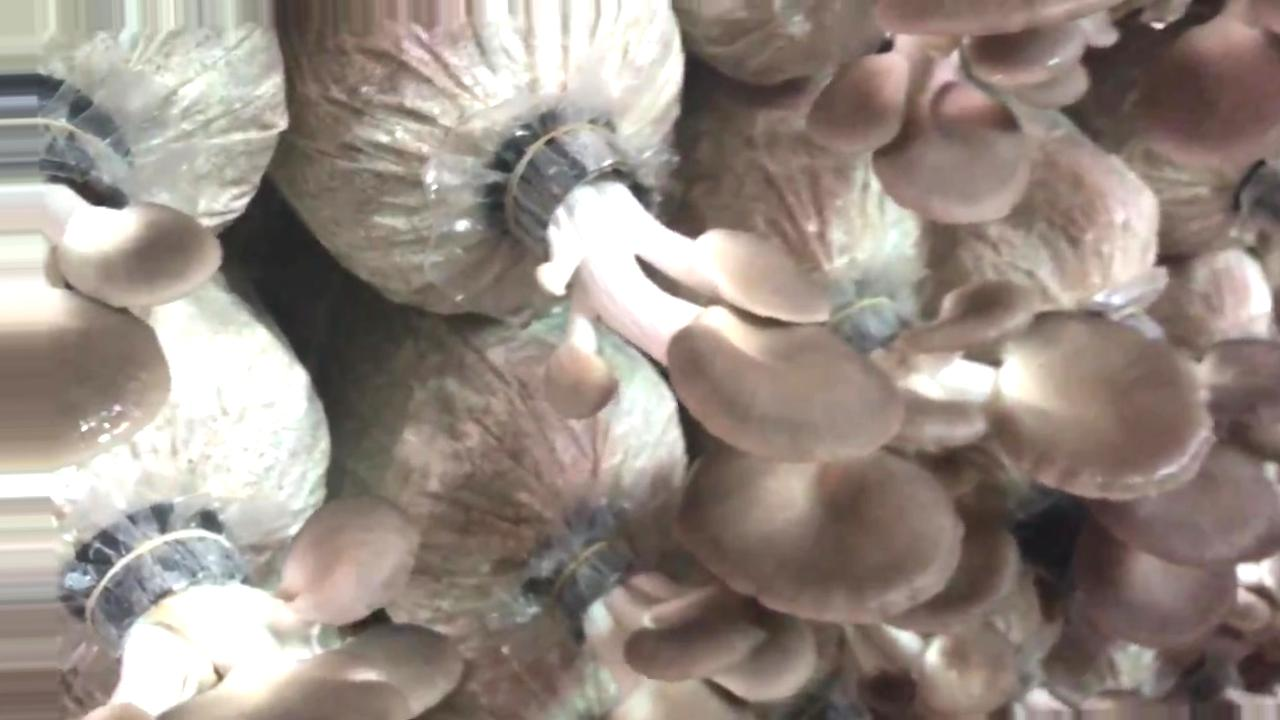nam: (673, 277, 1213, 625), (498, 121, 903, 466), (1, 71, 231, 467), (80, 498, 468, 720), (813, 1, 1116, 227), (530, 524, 814, 720)
